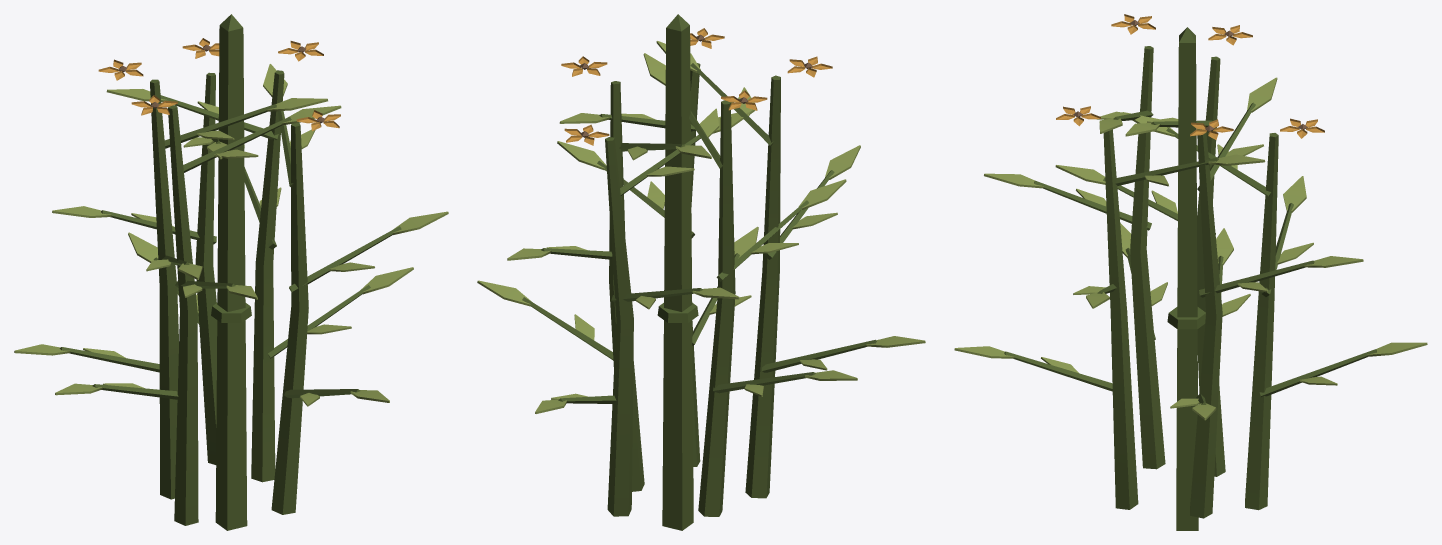
File: crop_tomato_growing.glb
3 views of the same model, side by side, from view 1: azimuth 30°, elevation 25°; view 2: azimuth 150°, elevation 25°; view 3: azimuth 270°, elevation 25° (orthographic). The views are drawn at different scales.
Visible parts, largest first — view 1: tomato_leaf_00_00_petiole, tomato_leaf_00_00_leaflet_00, tomato_blossom_00_petals; view 2: tomato_leaf_00_00_petiole, tomato_leaf_00_00_leaflet_00, tomato_blossom_00_petals; view 3: tomato_leaf_00_00_petiole, tomato_leaf_00_00_leaflet_00, tomato_blossom_00_petals.
Part boxes in pixels (x1,y1,x2,y2): tomato_leaf_00_00_petiole: (59, 14, 401, 530); tomato_leaf_00_00_leaflet_00: (14, 64, 448, 406); tomato_blossom_00_petals: (98, 38, 340, 131); tomato_leaf_00_00_petiole: (522, 14, 876, 530); tomato_leaf_00_00_leaflet_00: (477, 41, 925, 413); tomato_blossom_00_petals: (561, 28, 832, 145); tomato_leaf_00_00_petiole: (1004, 27, 1376, 530); tomato_leaf_00_00_leaflet_00: (954, 77, 1427, 420); tomato_blossom_00_petals: (1056, 14, 1324, 139).
Bounding box in the file's own units: 0.7278 × 0.88 × 0.7558.
